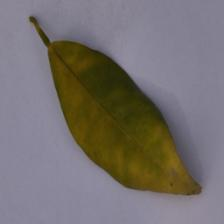greening: (42, 32, 209, 204)
